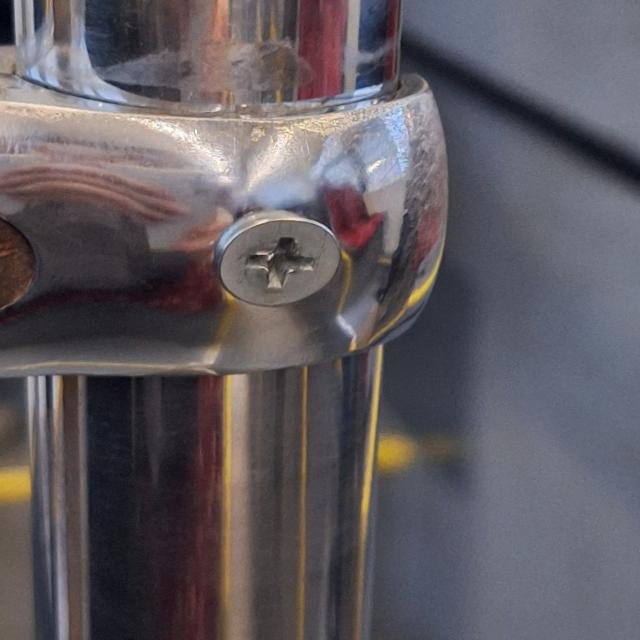Phillips: (213, 210, 338, 308)
